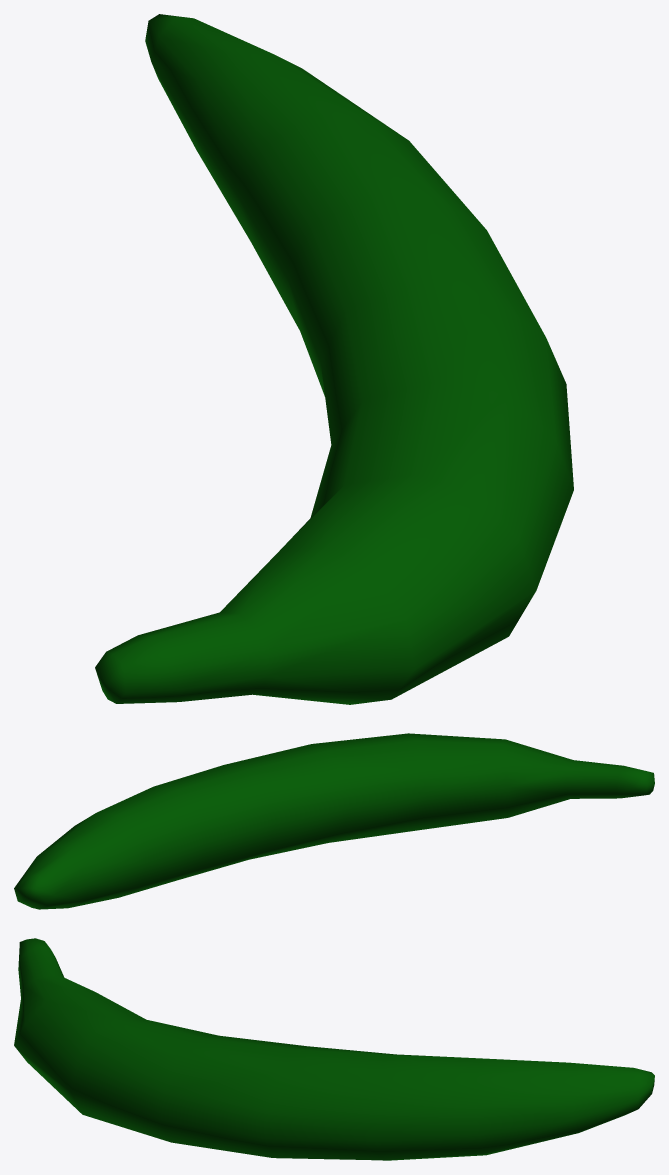
The model's file is fruit06.FBX.
3 views of the same model, one above another, from view 1: azimuth 30°, elevation 25°; view 2: azimuth 150°, elevation 25°; view 3: azimuth 270°, elevation 25° (orthographic). The views are drawn at different scales.
Parts seen in each view (by area): view 1: SM_fruit06_0; view 2: SM_fruit06_0; view 3: SM_fruit06_0.
Part boxes in pixels (bbox=[...]): SM_fruit06_0: bbox=[95, 14, 573, 704]; SM_fruit06_0: bbox=[14, 733, 654, 909]; SM_fruit06_0: bbox=[14, 938, 654, 1160].
Size of the model in its own units: 14.93 by 21.08 by 4.2.
